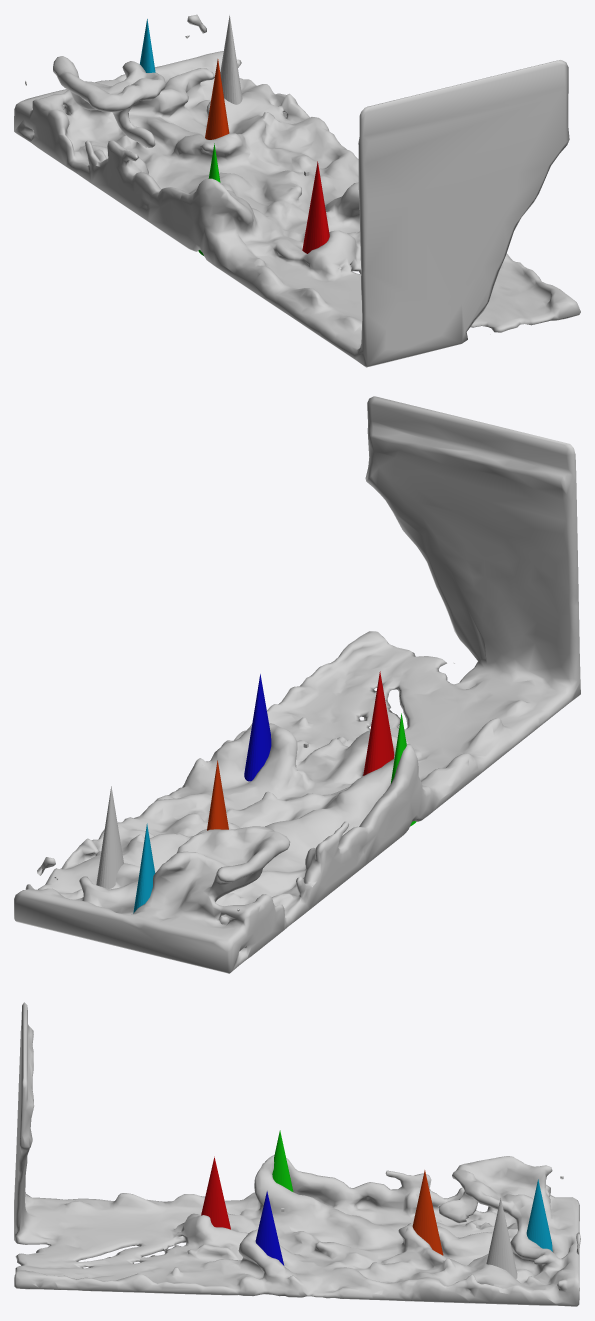
The picture shows the model from 3 angles, top to bottom: view 1: azimuth 30°, elevation 25°; view 2: azimuth 150°, elevation 25°; view 3: azimuth 270°, elevation 25°; orthographic projection. The views are drawn at different scales.
Visible parts, largest first — view 1: Liquid_Domain, 円錐.001, 円錐, 円錐.004, 円錐.005; view 2: Liquid_Domain, 円錐.001, 円錐.002, 円錐, 円錐.005, 円錐.004; view 3: Liquid_Domain, 円錐.004, 円錐, 円錐.001, 円錐.005, 円錐.002, 円錐.003.
Boxes of the visible parts, box(x1,y1,x2,y2) form: Liquid_Domain: box(14, 14, 580, 367); 円錐.001: box(302, 161, 329, 253); 円錐: box(220, 15, 242, 104); 円錐.004: box(205, 59, 229, 139); 円錐.005: box(140, 19, 155, 72); Liquid_Domain: box(14, 396, 580, 973); 円錐.001: box(363, 671, 394, 775); 円錐.002: box(244, 674, 271, 781); 円錐: box(96, 786, 123, 888); 円錐.005: box(133, 823, 155, 913); 円錐.004: box(207, 760, 228, 830); Liquid_Domain: box(14, 1002, 580, 1306); 円錐.004: box(412, 1170, 443, 1255); 円錐: box(486, 1197, 517, 1278); 円錐.001: box(201, 1156, 230, 1229); 円錐.005: box(526, 1179, 552, 1251); 円錐.002: box(255, 1191, 284, 1265); 円錐.003: box(272, 1130, 293, 1191).
Size of the model in its own units: 129 by 158 by 362.
